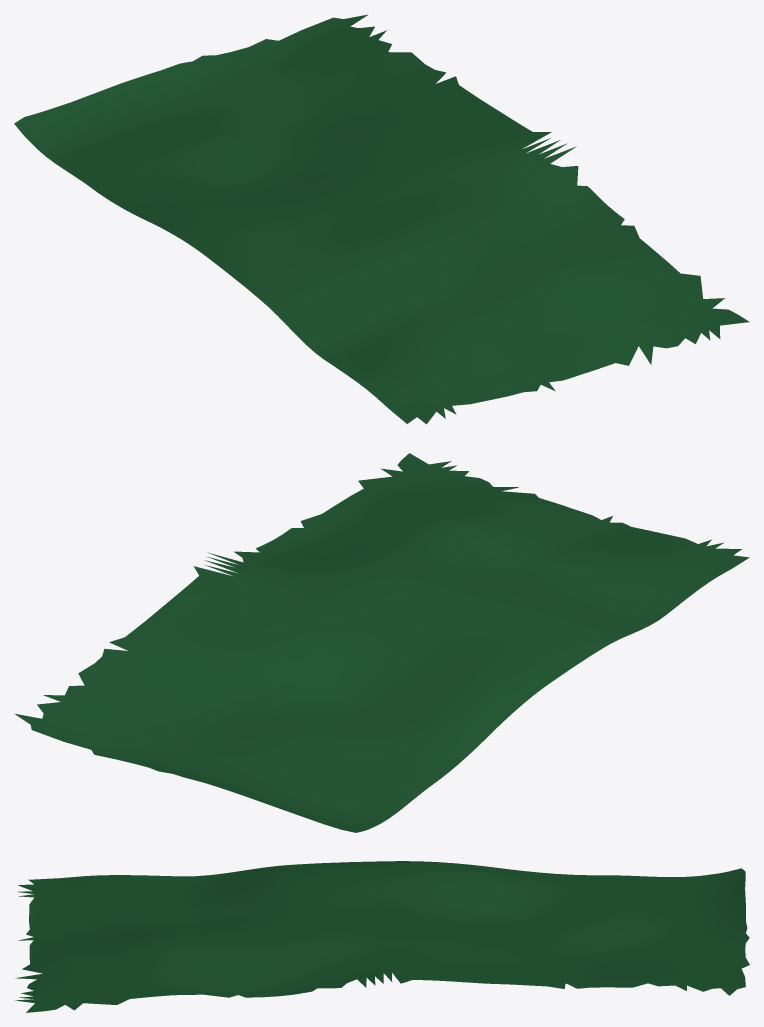
Rendered from payo_land_x4_y0.glb.
3 views of the same model, one above another, from view 1: azimuth 30°, elevation 25°; view 2: azimuth 150°, elevation 25°; view 3: azimuth 270°, elevation 25° (orthographic). The views are drawn at different scales.
Visible parts, largest first — view 1: payo_land_x4_y0; view 2: payo_land_x4_y0; view 3: payo_land_x4_y0.
Part boxes in pixels (bbox=[...]): payo_land_x4_y0: bbox=[14, 14, 749, 424]; payo_land_x4_y0: bbox=[14, 453, 749, 832]; payo_land_x4_y0: bbox=[15, 861, 749, 1012].
Size of the model in its own units: 133 by 20.09 by 262.
